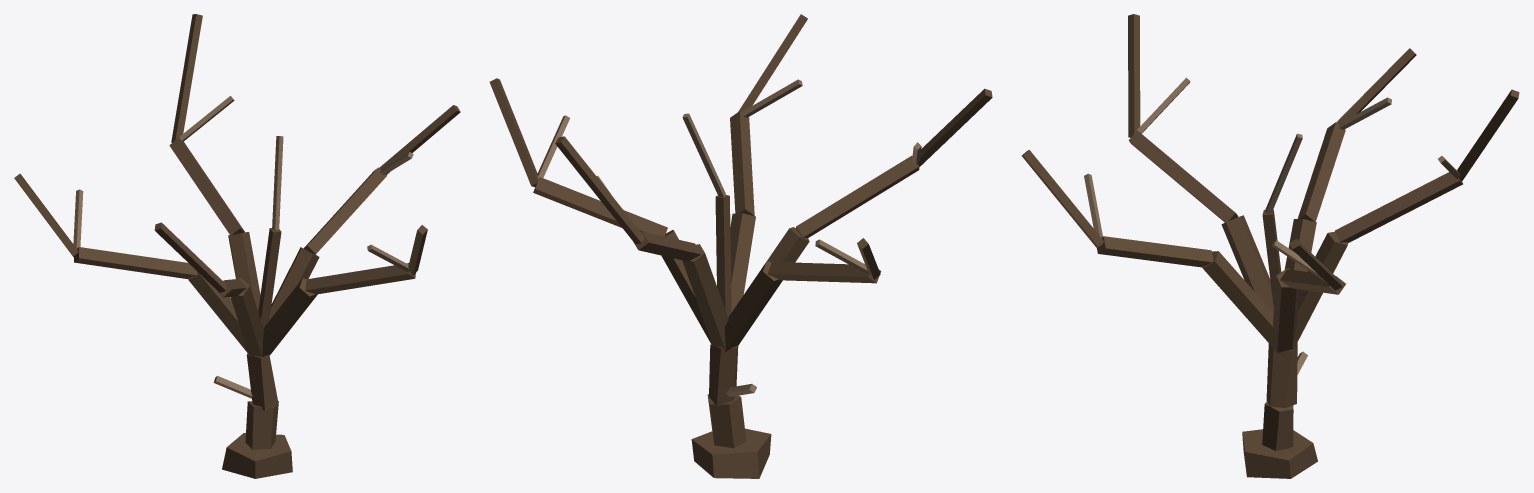
Rendered from dead_tree.glb.
The picture shows the model from 3 angles, left to right: view 1: azimuth 30°, elevation 25°; view 2: azimuth 150°, elevation 25°; view 3: azimuth 270°, elevation 25°; orthographic projection. The views are drawn at different scales.
Visible parts, largest first — view 1: dead_tree; view 2: dead_tree; view 3: dead_tree.
Part boxes in pixels (left/top/right/bottom): dead_tree: left=14, top=14, right=460, bottom=478; dead_tree: left=489, top=14, right=992, bottom=478; dead_tree: left=1021, top=14, right=1519, bottom=478.
Size of the model in its own units: 6.28 by 5.59 by 6.27.
